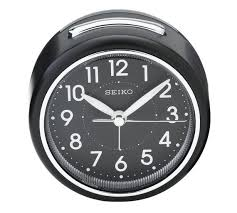alarm_clock: (28, 4, 211, 201), (28, 14, 211, 201)
